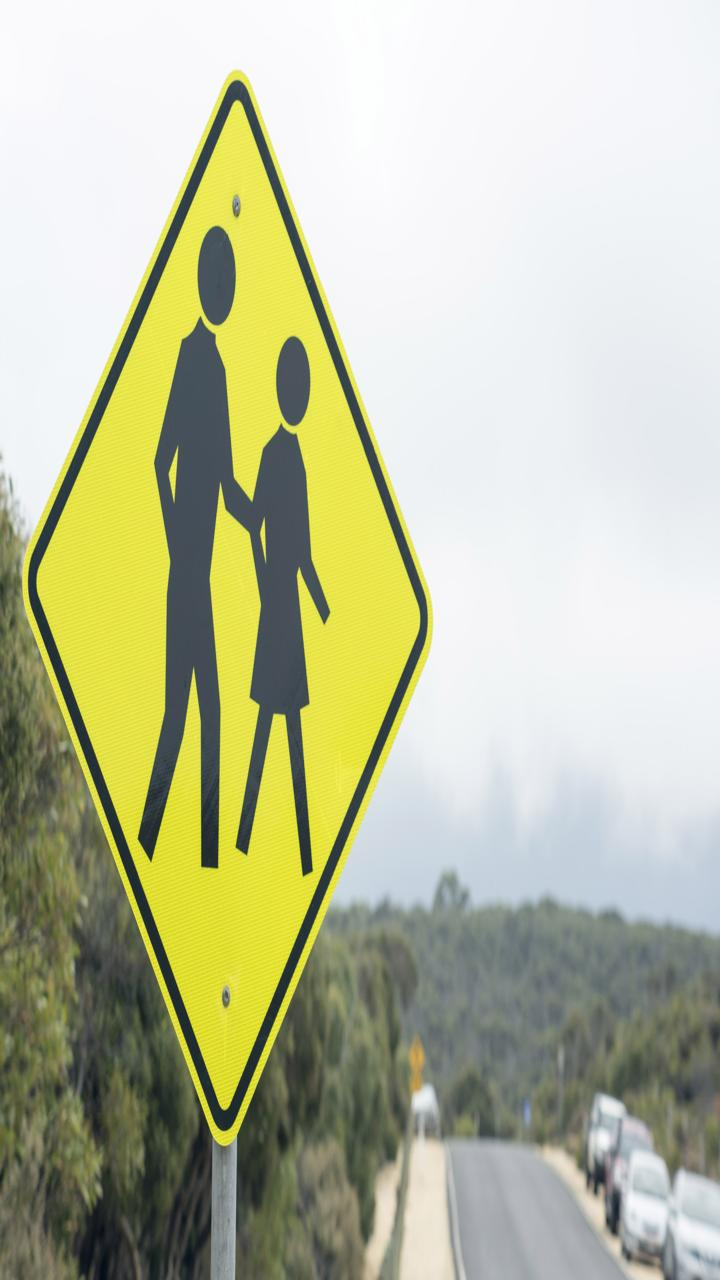Traffic sign: (18, 65, 428, 1163)
